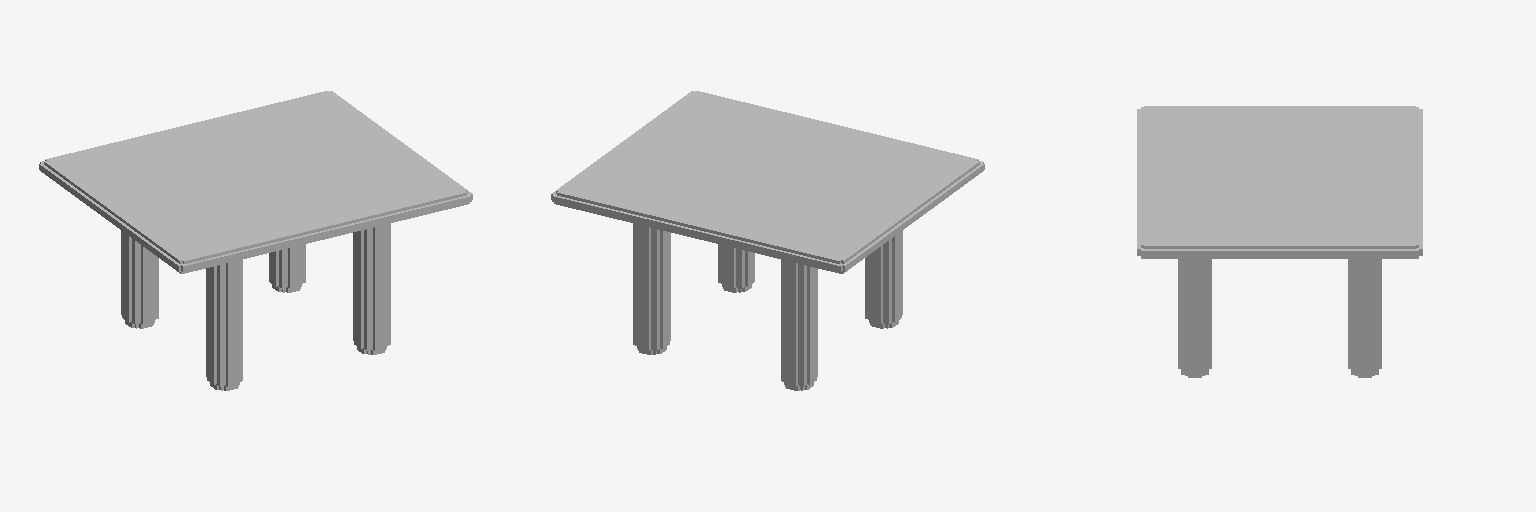
Rendered from table.obj.
The picture shows the model from 3 angles: view 1: azimuth 30°, elevation 25°; view 2: azimuth 150°, elevation 25°; view 3: azimuth 270°, elevation 25°; orthographic projection.
Size of the model in its own units: 100 by 52 by 84.